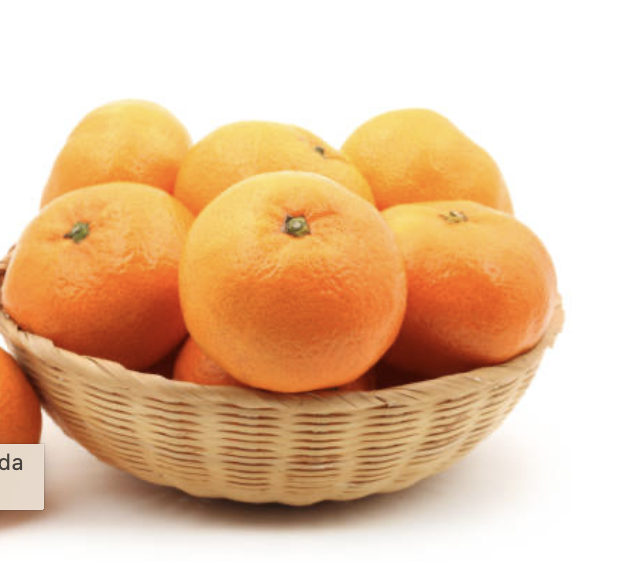orange: (172, 164, 421, 391), (342, 186, 604, 372), (6, 166, 206, 392)
